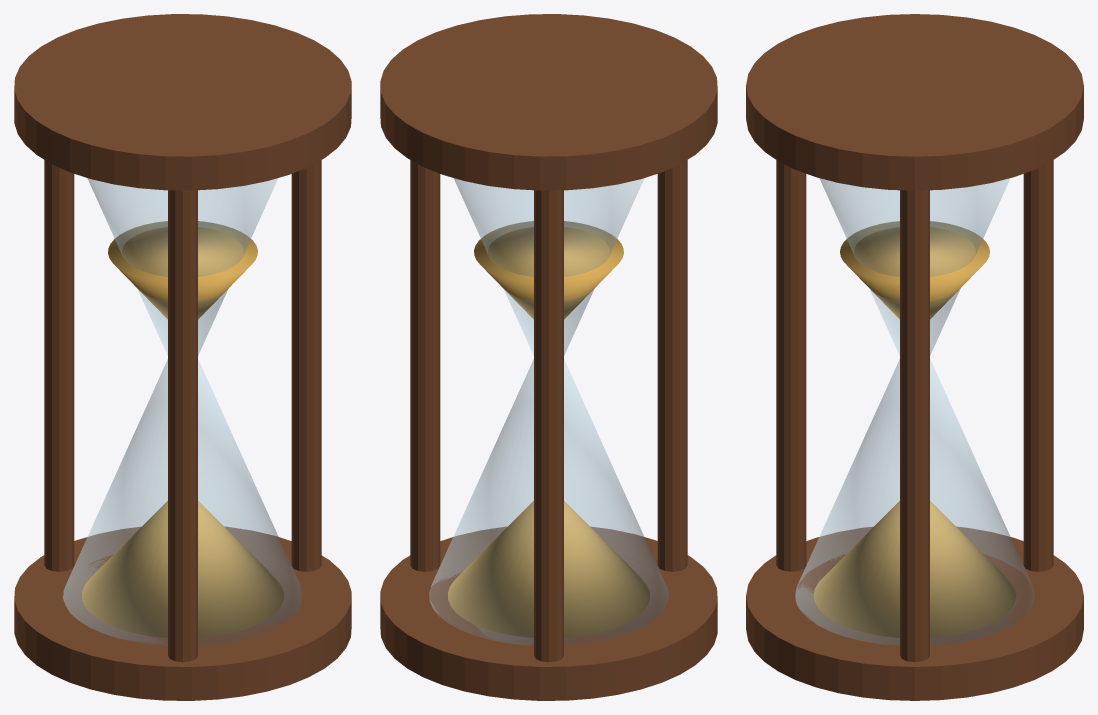
File: reloj_arena.glb
The picture shows the model from 3 angles, left to right: view 1: azimuth 30°, elevation 25°; view 2: azimuth 150°, elevation 25°; view 3: azimuth 270°, elevation 25°; orthographic projection.
Visible parts, largest first — view 1: Cylinder.001, Cone.001, Cylinder, Cone.002, Cylinder.004, Cylinder.002, Cylinder.003, Cone, Cone.003; view 2: Cylinder.001, Cone.001, Cylinder, Cone.002, Cylinder.003, Cylinder.002, Cylinder.004, Cone, Cone.003; view 3: Cylinder.001, Cone.001, Cylinder, Cone.002, Cylinder.002, Cylinder.003, Cylinder.004, Cone, Cone.003.
Boxes of the visible parts, <box> form: Cylinder.001: <box>14,14,351,190</box>; Cone.001: <box>63,359,302,645</box>; Cylinder: <box>14,526,351,700</box>; Cone.002: <box>81,501,284,637</box>; Cylinder.004: <box>168,190,197,662</box>; Cylinder.002: <box>291,160,321,571</box>; Cylinder.003: <box>44,160,74,571</box>; Cone: <box>87,178,277,355</box>; Cone.003: <box>108,221,257,319</box>; Cylinder.001: <box>380,14,717,190</box>; Cone.001: <box>429,359,668,645</box>; Cylinder: <box>380,526,717,700</box>; Cone.002: <box>447,501,650,637</box>; Cylinder.003: <box>534,190,563,662</box>; Cylinder.002: <box>410,160,440,571</box>; Cylinder.004: <box>657,160,687,571</box>; Cone: <box>454,178,644,355</box>; Cone.003: <box>474,221,623,319</box>; Cylinder.001: <box>746,14,1083,190</box>; Cone.001: <box>795,359,1034,645</box>; Cylinder: <box>746,526,1083,700</box>; Cone.002: <box>813,501,1016,637</box>; Cylinder.002: <box>900,190,929,662</box>; Cylinder.003: <box>1023,160,1053,571</box>; Cylinder.004: <box>776,160,806,571</box>; Cone: <box>819,178,1010,355</box>; Cone.003: <box>840,221,989,319</box>.
Bounding box in the file's own units: 0.9 × 1.6 × 0.9.
